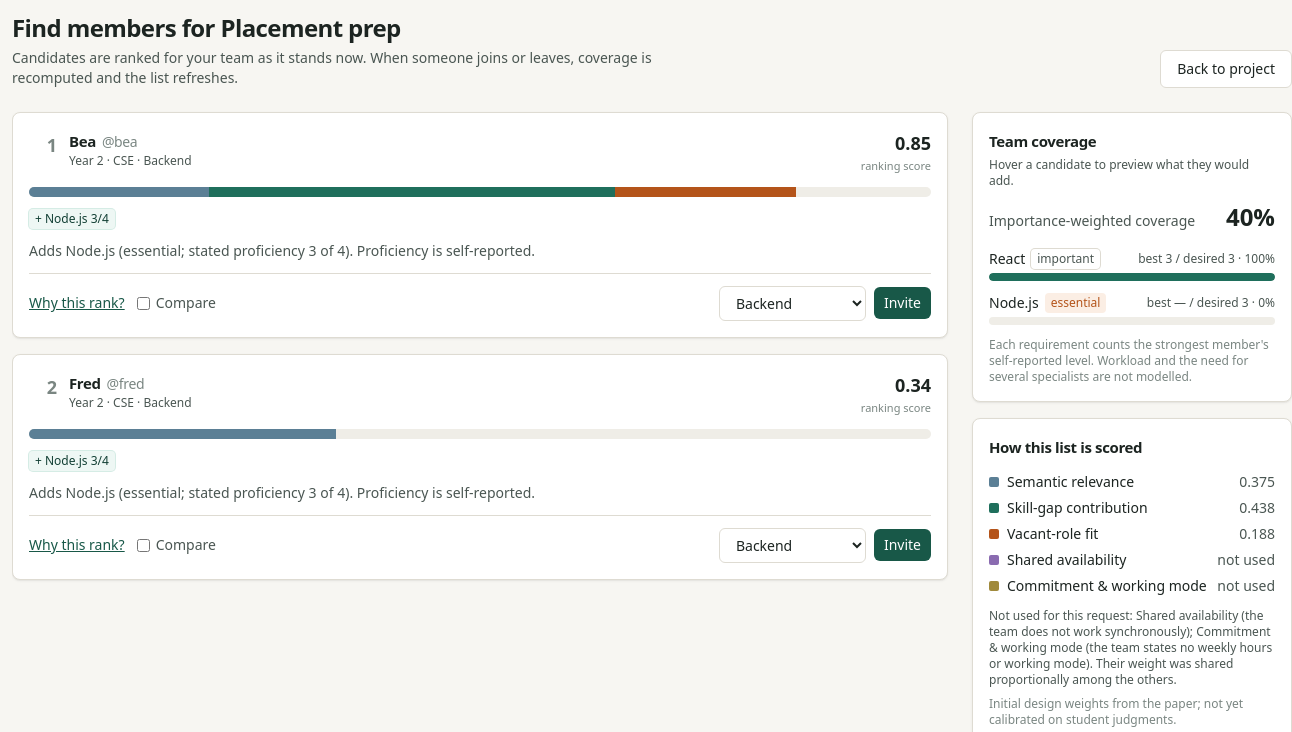
Test case: recommendations journey › lists ranked candidates, shows weights, and sends an invitation
This screenshot has width=1292, height=732.
expect the heading "Find members for Placement prep" is shown: met, box left=12, top=11, right=401, bottom=44
expect the text "Not used for this request" shows "the team does not work synchronously": met, box left=989, top=607, right=1272, bottom=672
Click the button "Invite" below "0.85". click: (902, 303)
box: left=874, top=287, right=931, bottom=319
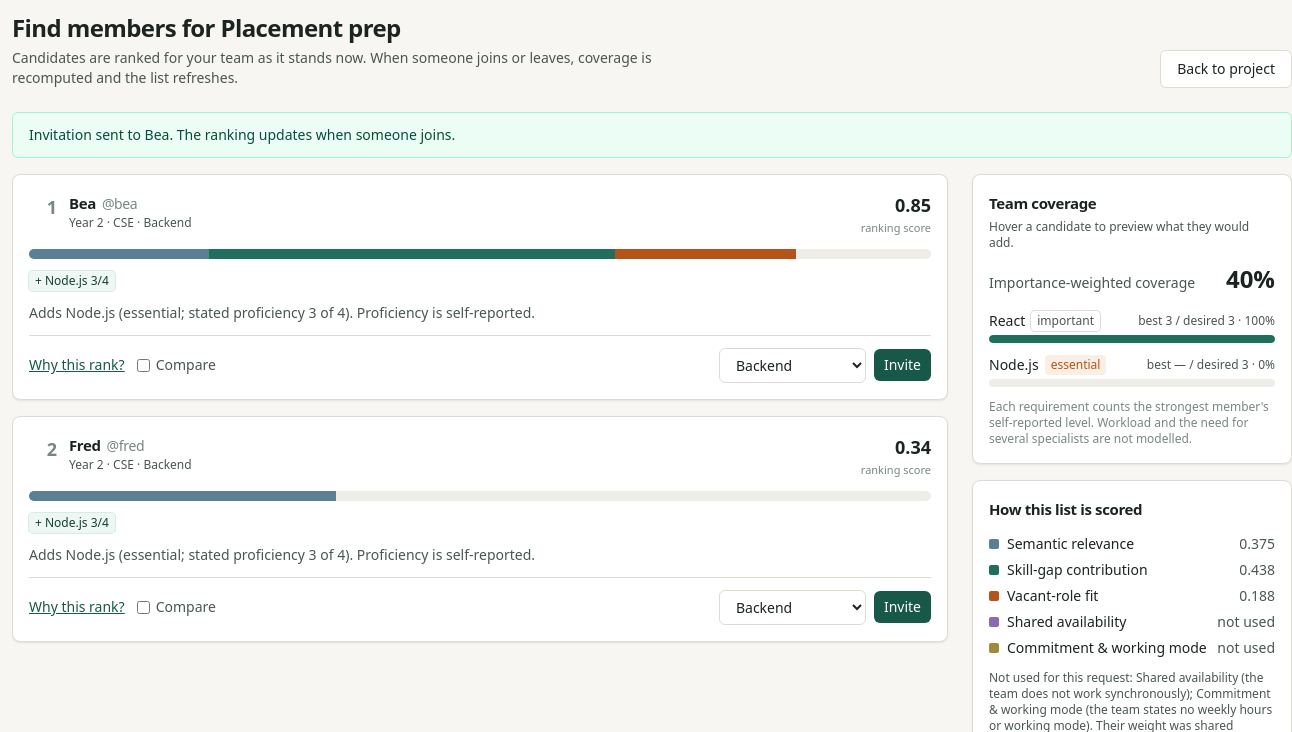
expect the text "Invitation sent to Bea" is shown: met, box left=29, top=125, right=455, bottom=144
